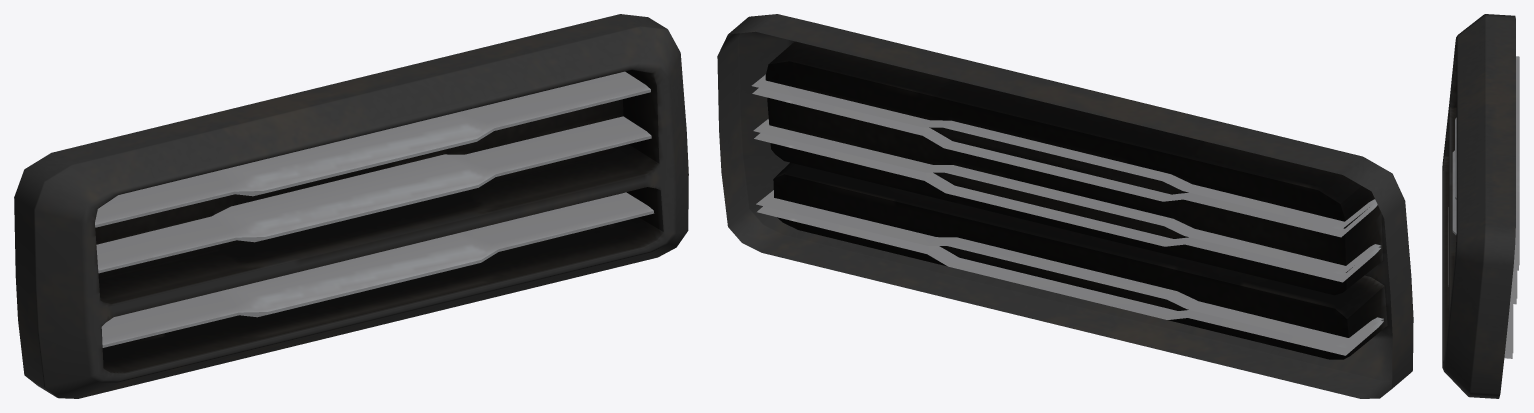
The model's file is Vent 1.fbx.
The picture shows the model from 3 angles, left to right: view 1: azimuth 30°, elevation 25°; view 2: azimuth 150°, elevation 25°; view 3: azimuth 270°, elevation 25°; orthographic projection. The views are drawn at different scales.
Parts seen in each view (by area): view 1: Vent_1; view 2: Vent_1; view 3: Vent_1.
Part boxes in pixels (x1,y1,x2,y2): Vent_1: (14, 14, 688, 398); Vent_1: (717, 14, 1413, 398); Vent_1: (1442, 14, 1519, 398).
Bounding box in the file's own units: 28.39 × 9.44 × 3.92.
